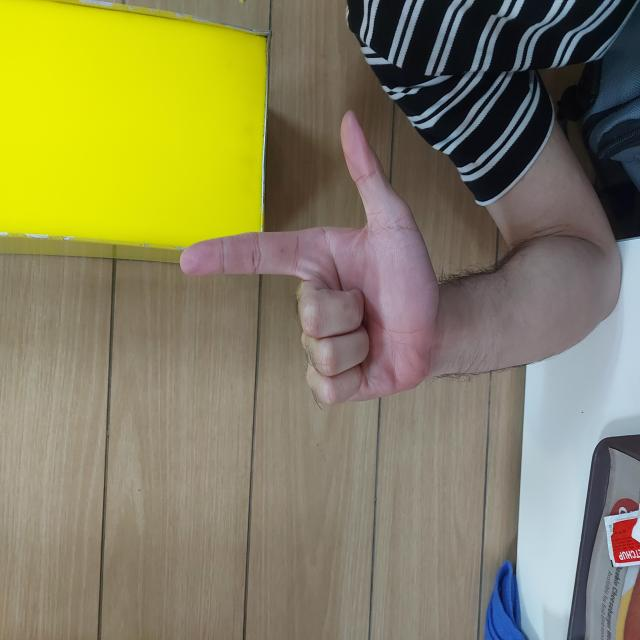L: (236, 177, 534, 442)
